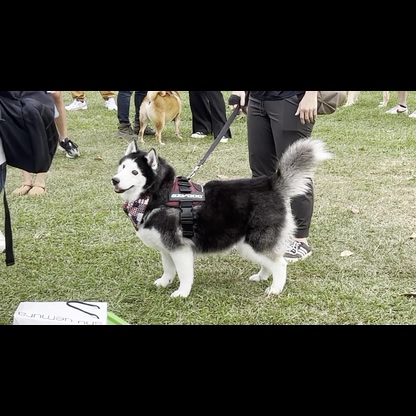husky: (110, 134, 339, 302)
